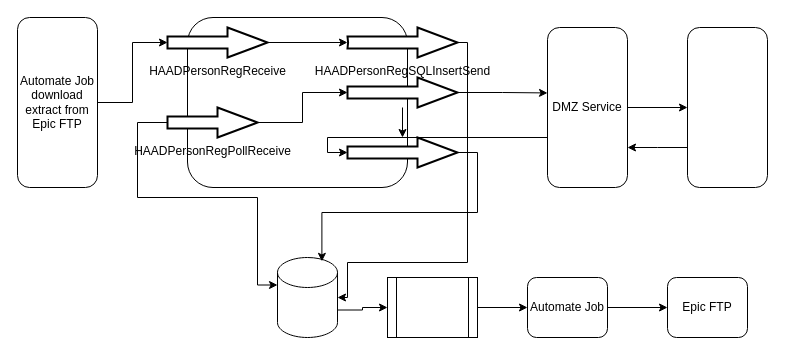
Some shapes in this 785 by 355 pixel diagram are drawn without their labels. Each missing label, with the centre of its shape:
HAADPersonRegSerivceSend: the point at 402,92
HAADPersonRegSQLUpdateSend: the point at 402,152
Shafafiay Service (External): the point at 727,107
SQL Job: the point at 432,307
